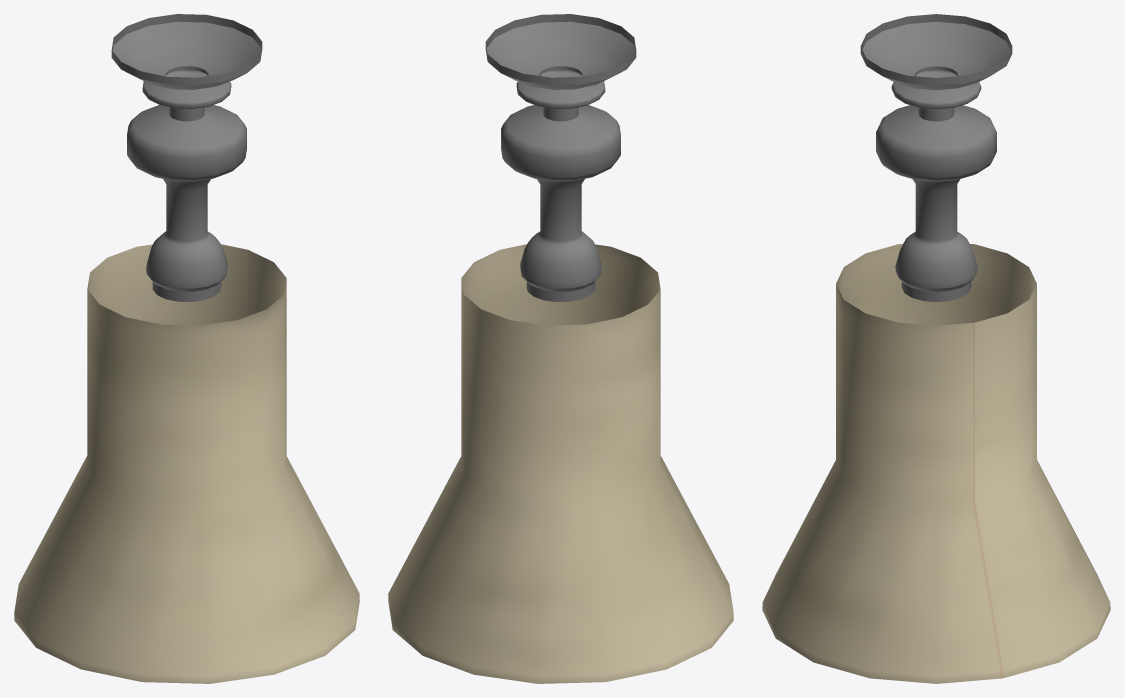
The model's file is M_Lamp.fbx.
The picture shows the model from 3 angles, left to right: view 1: azimuth 30°, elevation 25°; view 2: azimuth 150°, elevation 25°; view 3: azimuth 270°, elevation 25°; orthographic projection.
Visible parts, largest first — view 1: Lamp; view 2: Lamp; view 3: Lamp.
Boxes of the visible parts, x1=… form: Lamp: x1=14, y1=14, x2=359, y2=683; Lamp: x1=388, y1=14, x2=733, y2=683; Lamp: x1=762, y1=14, x2=1110, y2=683.
Size of the model in its own units: 28.8 by 51.75 by 28.8.
